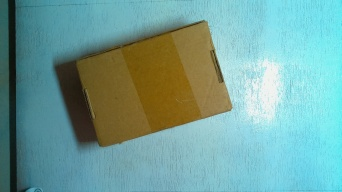a: (77, 14, 238, 153)
